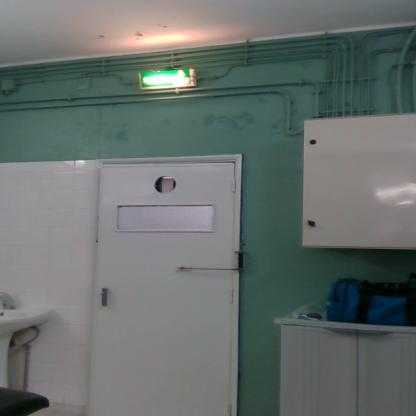door: (97, 164, 234, 416), (100, 291, 107, 296)
hinged: (228, 286, 234, 304), (231, 177, 236, 192), (227, 402, 232, 415)
